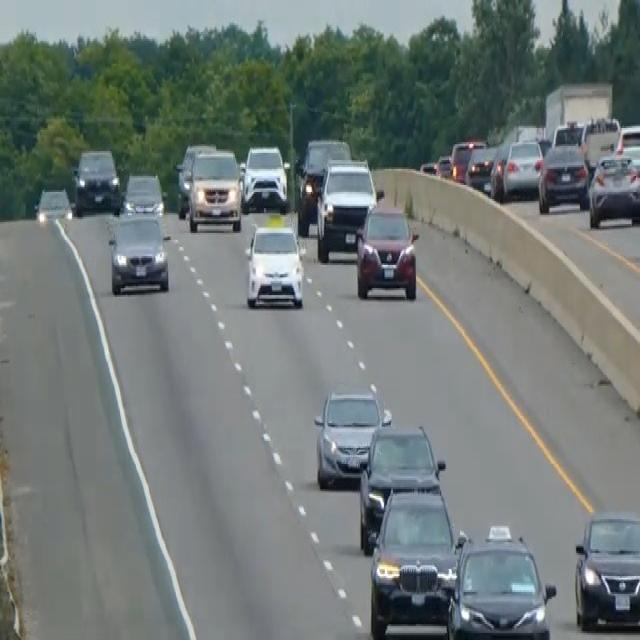car: (368, 482, 465, 638), (440, 521, 556, 638), (358, 419, 445, 553), (573, 507, 639, 631), (313, 387, 391, 489), (315, 156, 379, 262), (354, 198, 419, 300), (243, 217, 306, 311), (295, 135, 351, 233), (107, 212, 170, 295), (588, 151, 639, 228), (537, 140, 589, 213), (489, 135, 544, 201), (240, 142, 289, 214), (73, 146, 120, 215), (174, 140, 216, 217), (570, 114, 620, 170), (121, 169, 164, 217), (464, 142, 500, 192), (449, 137, 486, 183), (33, 185, 72, 226), (613, 121, 639, 178), (435, 153, 452, 178), (419, 158, 438, 176)
minivan: (186, 146, 242, 233)
